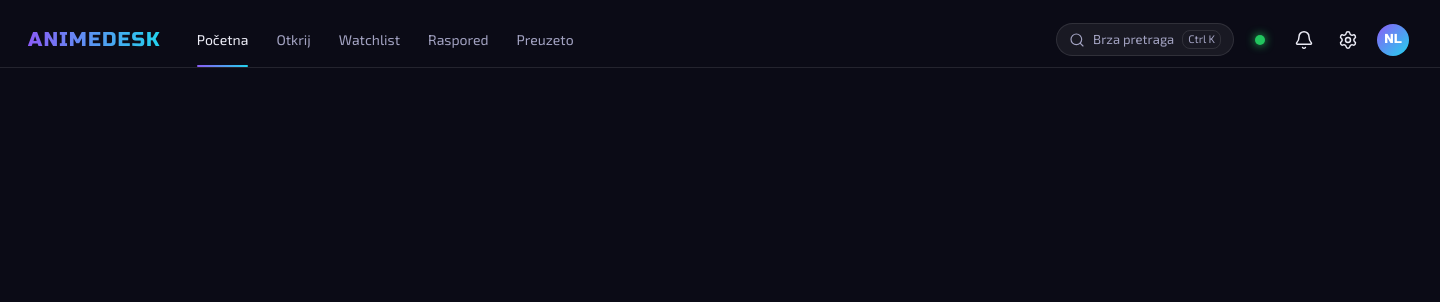
TopBar › avatar menu › opens with level, Profil, fullscreen and the version
Click the button with aria-label "Nalog". click: (1393, 40)
box: top-left (1374, 20), bottom-right (1412, 58)
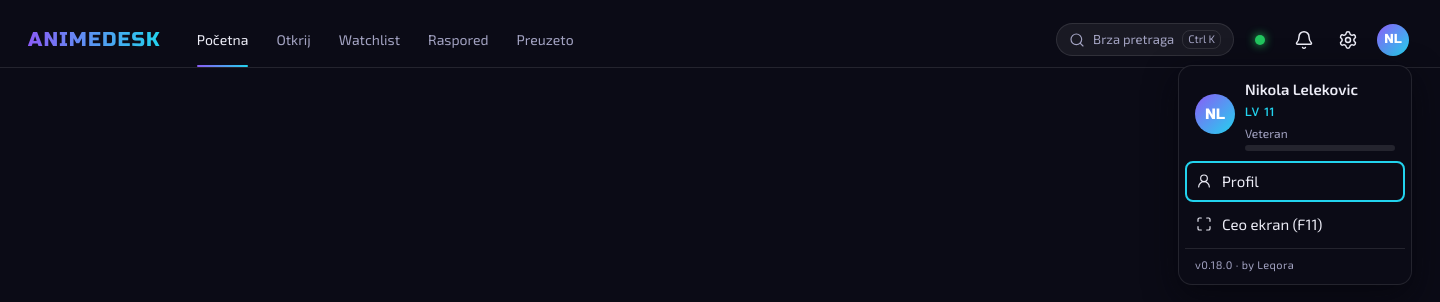
Now the text "Nikola Lelekovic" is shown, box top-left (1245, 80), bottom-right (1358, 98)
Now the text "LV 11" is shown, box top-left (1245, 104), bottom-right (1275, 120)
Now the progress indicator is shown, box top-left (1245, 145), bottom-right (1395, 151)
Click the menu item "Ceo ekran (F11)". click: (1295, 224)
box: top-left (1185, 204), bottom-right (1405, 244)
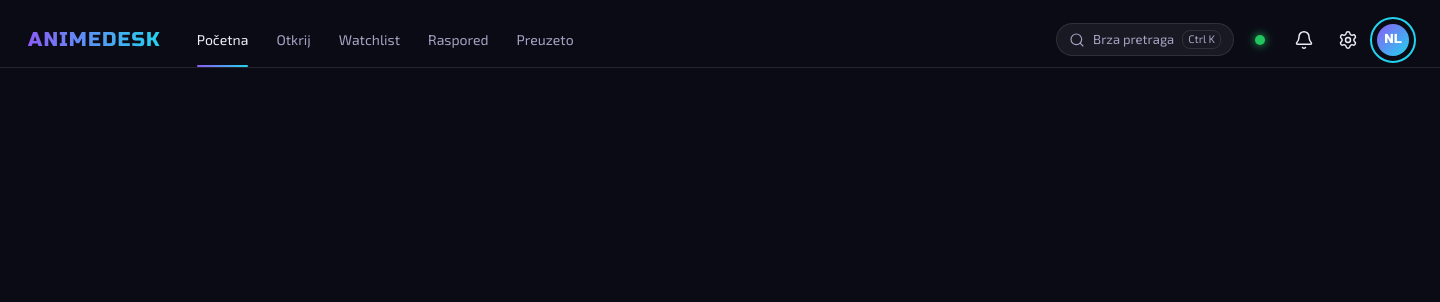
Now the menu is gone
Click the button with aria-label "Nalog". click: (1393, 40)
box: top-left (1374, 20), bottom-right (1412, 58)
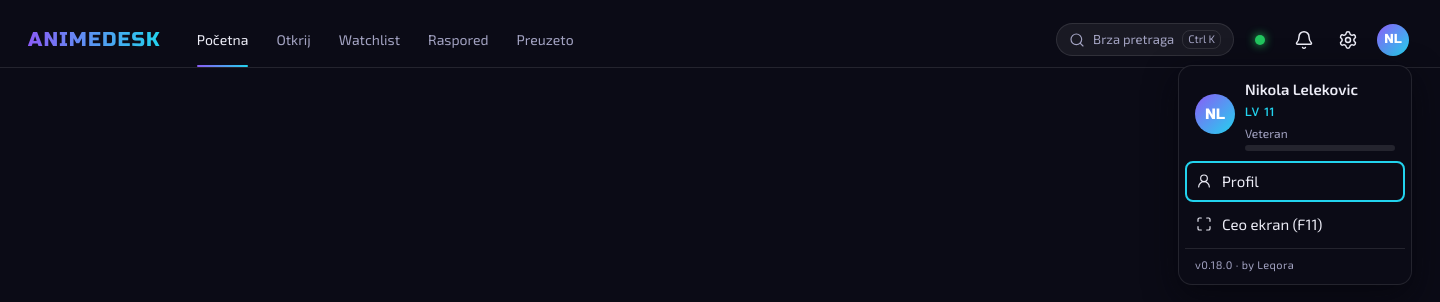
Click the menu item "Profil". click: (1295, 181)
box: top-left (1185, 161), bottom-right (1405, 202)
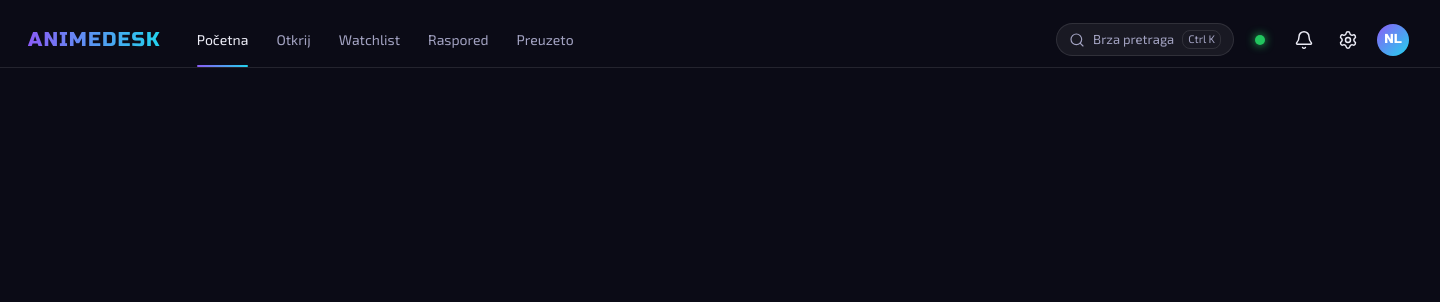
Now the menu is gone
